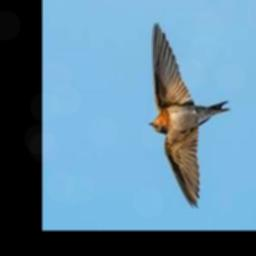Swallow: (148, 23, 229, 210)
